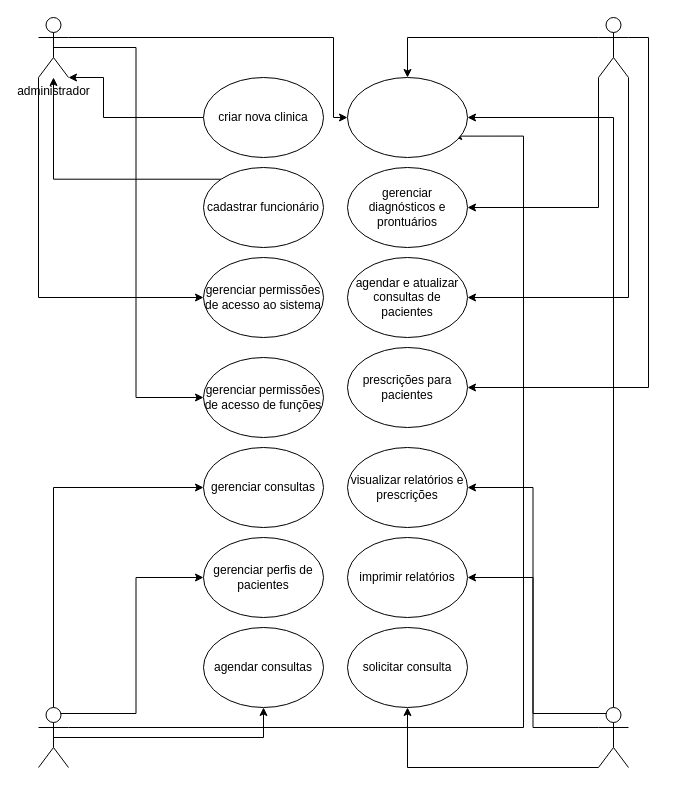
Some shapes in this 674 by 806 pixel diagram are drawn without their labels. The shapes that lost their labels are listed below. From the top down, each one's centre as x and y in pixels, then its label:
point (613, 47): médico
point (407, 117): fazer login
point (53, 737): atendente
point (613, 737): paciente
